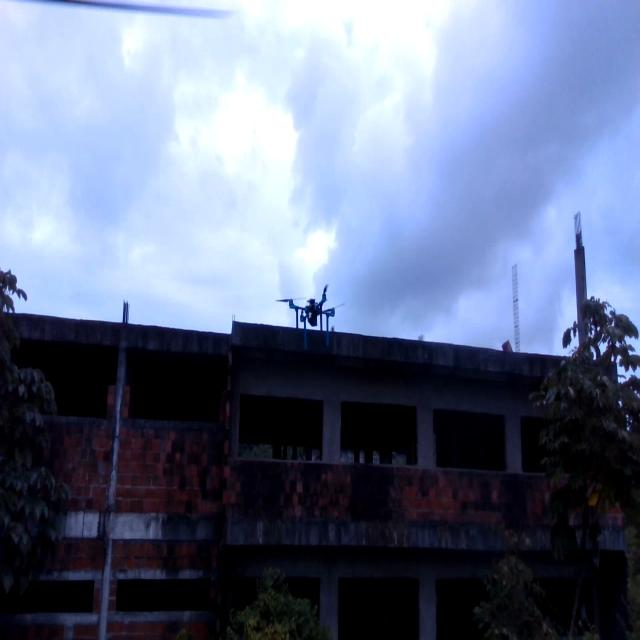-uav-: (274, 271, 348, 359)
